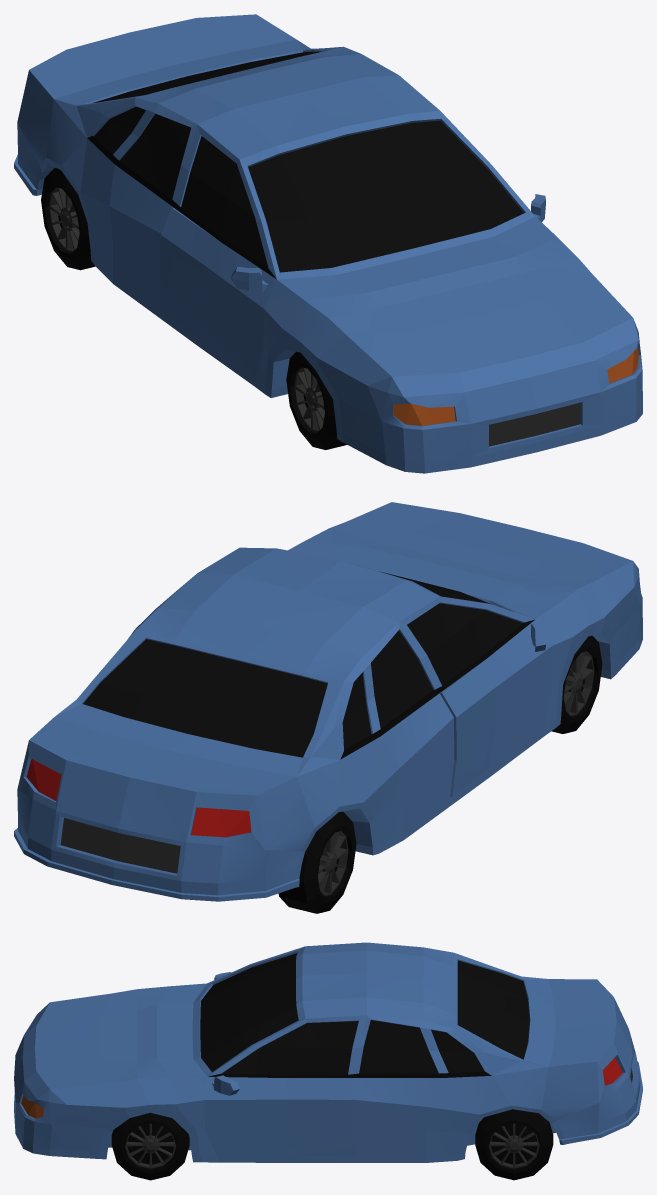
Rendered from normalCar1.obj.
3 views of the same model, one above another, from view 1: azimuth 30°, elevation 25°; view 2: azimuth 150°, elevation 25°; view 3: azimuth 270°, elevation 25° (orthographic). The views are drawn at different scales.
Visible parts, largest first — view 1: NormalCar1_Cube.012, NormalCar1_BackWheels_Cube.011, NormalCar1_FrontRightWheel_Cube.008; view 2: NormalCar1_Cube.012, NormalCar1_BackWheels_Cube.011, NormalCar1_FrontRightWheel_Cube.008; view 3: NormalCar1_Cube.012, NormalCar1_BackWheels_Cube.011, NormalCar1_FrontLeftWheel_Cube.007.
Boxes of the visible parts, <box> form: NormalCar1_Cube.012: <box>14,14,642,473</box>; NormalCar1_BackWheels_Cube.011: <box>41,168,95,270</box>; NormalCar1_FrontRightWheel_Cube.008: <box>286,351,346,449</box>; NormalCar1_Cube.012: <box>14,502,642,901</box>; NormalCar1_BackWheels_Cube.011: <box>278,811,356,913</box>; NormalCar1_FrontRightWheel_Cube.008: <box>551,635,602,733</box>; NormalCar1_Cube.012: <box>14,942,642,1162</box>; NormalCar1_BackWheels_Cube.011: <box>475,1109,553,1180</box>; NormalCar1_FrontLeftWheel_Cube.007: <box>111,1112,189,1180</box>.
Bounding box in the file's own units: 1.81 × 1.18 × 4.22.
